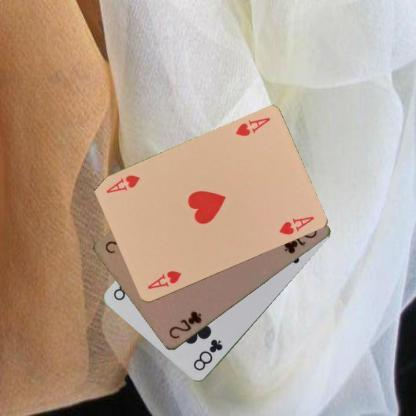2c: (166, 308, 203, 341)
8c: (190, 337, 224, 373)
Ah: (232, 115, 272, 138), (144, 268, 182, 291)
